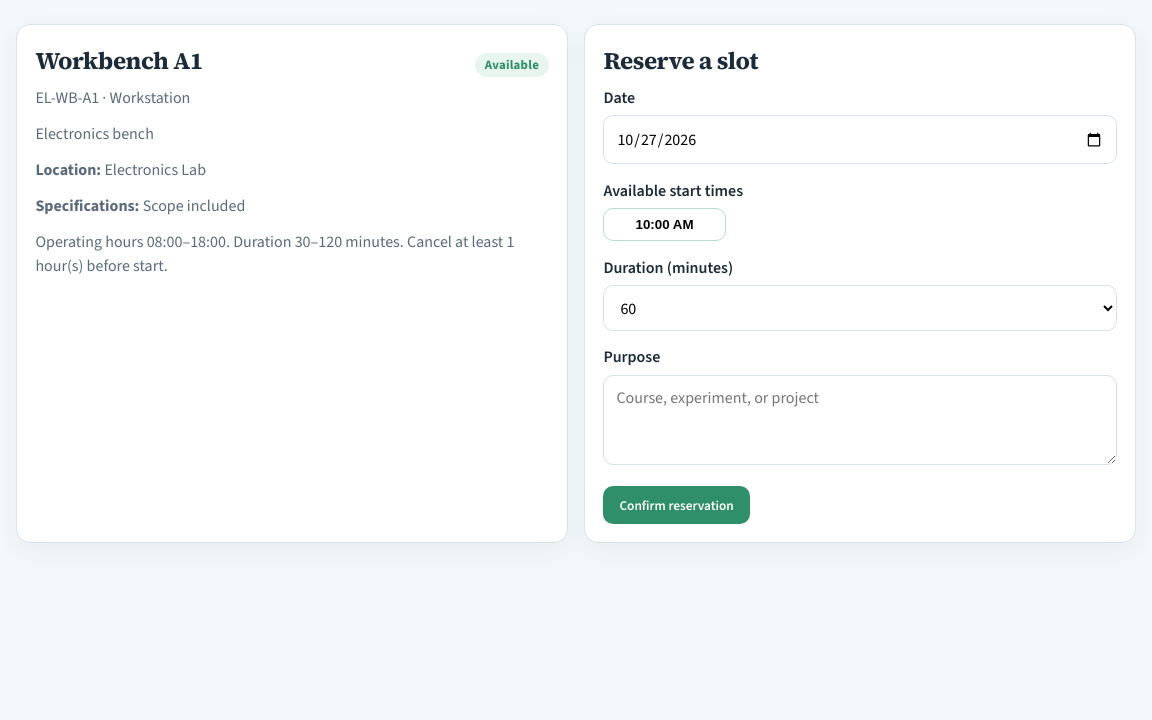
Scenario: shows booking conflict errors from the API
Expected: the heading "Workbench A1" is shown, [35,43,203,79]
Click the button "10:00 AM": {"x": 665, "y": 225} [603,208,726,241]
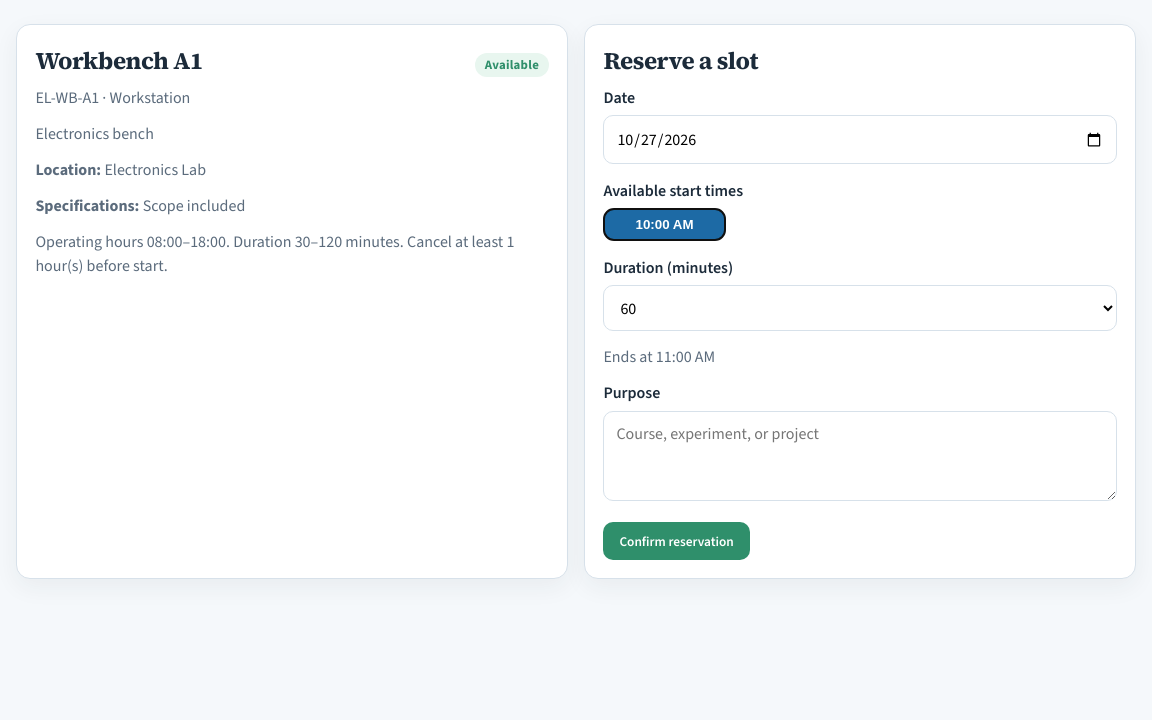
In the text box labelled "Purpose": {"x": 860, "y": 456} [603,411,1117,501], type "Project demonstration"
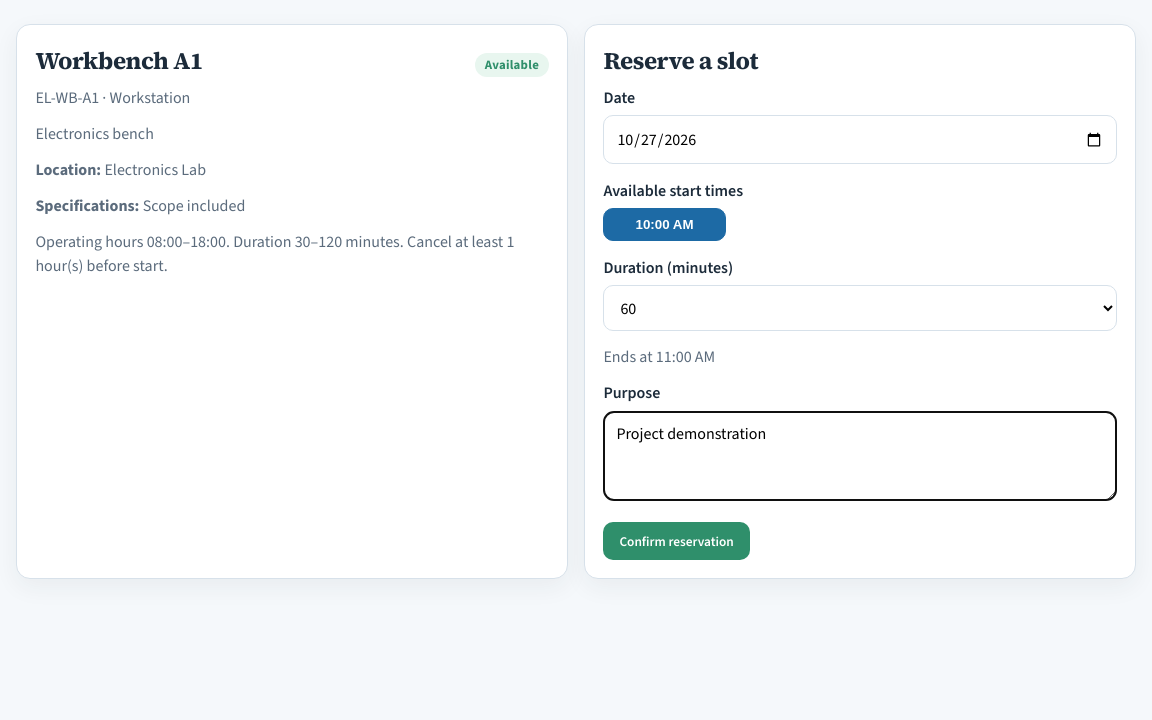
Click the button "Confirm reservation": {"x": 677, "y": 541} [603,522,750,560]
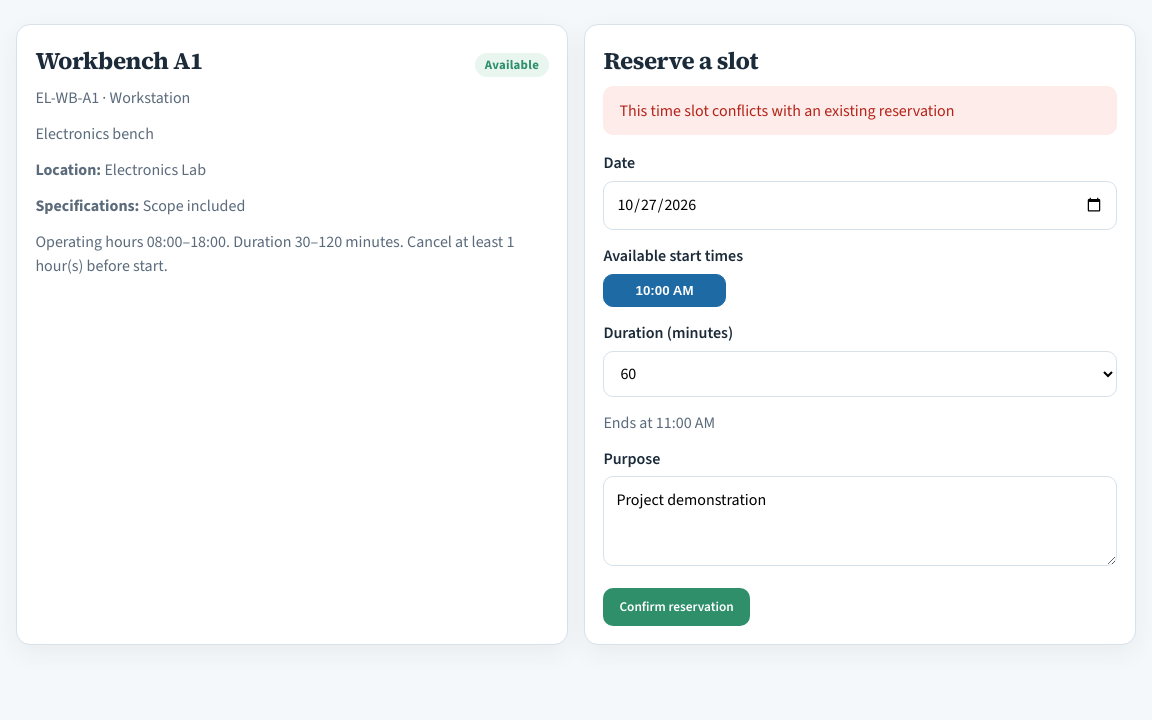
Now the message shows "conflicts", box [619,100,954,121]
